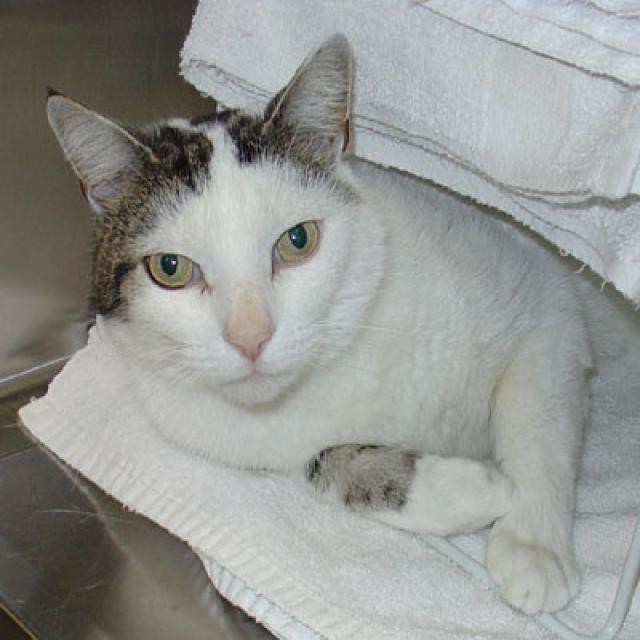Cats: (41, 31, 638, 616)
